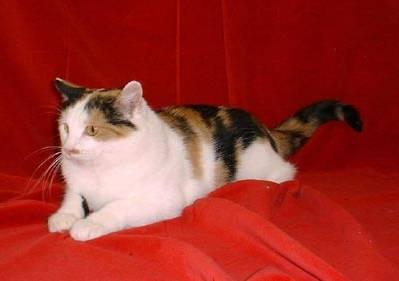cat: (48, 78, 361, 240)
